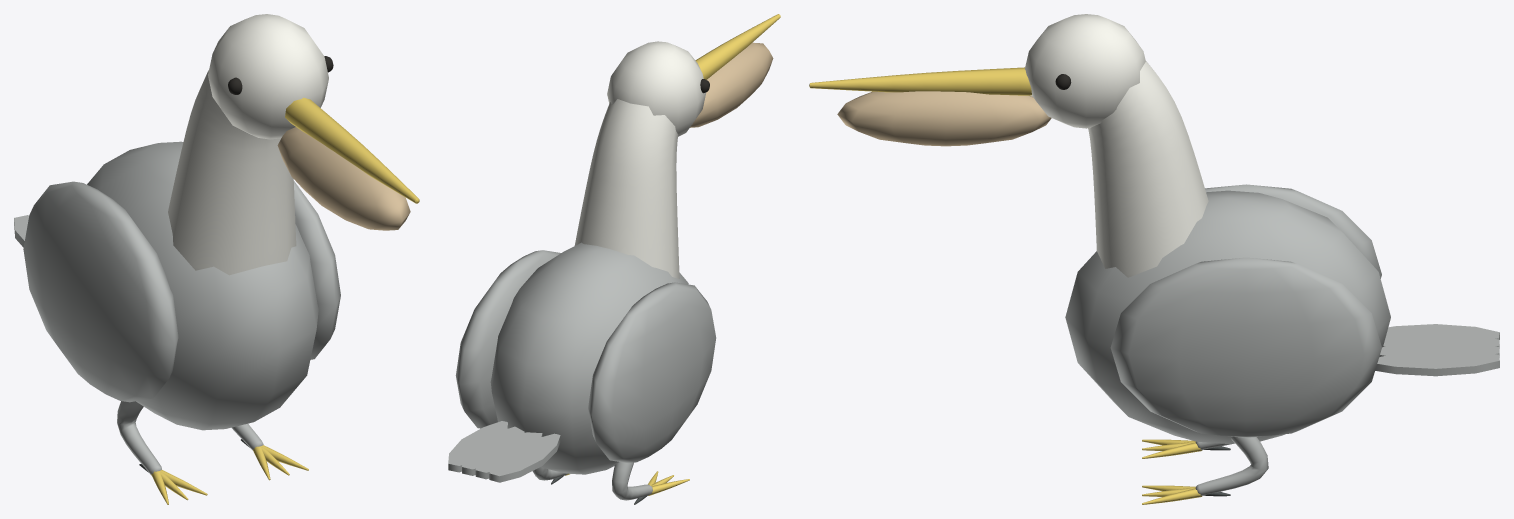
The model's file is PelicanBrown.glb.
The picture shows the model from 3 angles, left to right: view 1: azimuth 30°, elevation 25°; view 2: azimuth 150°, elevation 25°; view 3: azimuth 270°, elevation 25°; orthographic projection. The views are drawn at different scales.
Visible parts, largest first — view 1: brown-pelican; view 2: brown-pelican; view 3: brown-pelican.
Boxes of the visible parts, <box> form: brown-pelican: <box>14,14,419,504</box>; brown-pelican: <box>448,14,780,504</box>; brown-pelican: <box>809,14,1499,504</box>.
Bounding box in the file's own units: 0.4905 × 1.04 × 1.43.
